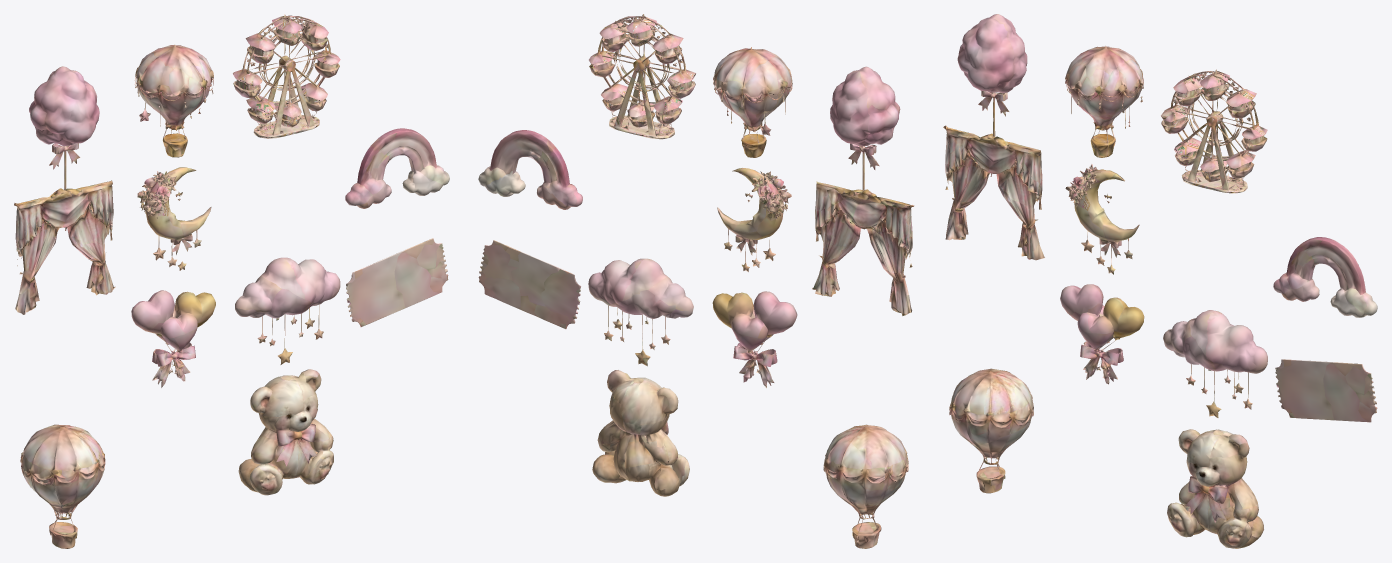
The picture shows the model from 3 angles, left to right: view 1: azimuth 30°, elevation 25°; view 2: azimuth 150°, elevation 25°; view 3: azimuth 330°, elevation 25°; orthographic projection.
Parts seen in each view (by area): view 1: Mesh 11, Mesh 10, Mesh 19, Mesh 3, Mesh 15, Mesh 7, Mesh 9, Mesh 20, Mesh 14, Mesh 6, Mesh 8; view 2: Mesh 11, Mesh 10, Mesh 19, Mesh 3, Mesh 15, Mesh 7, Mesh 9, Mesh 20, Mesh 14, Mesh 6, Mesh 8; view 3: Mesh 11, Mesh 10, Mesh 19, Mesh 3, Mesh 15, Mesh 7, Mesh 9, Mesh 20, Mesh 14, Mesh 6, Mesh 8.
Boxes of the visible parts, x1,y1,x2,y2 form: Mesh 11: (238, 369, 333, 495); Mesh 10: (232, 14, 340, 138); Mesh 19: (14, 180, 115, 314); Mesh 3: (20, 424, 105, 548); Mesh 15: (346, 238, 448, 326); Mesh 7: (134, 44, 213, 157); Mesh 9: (235, 257, 340, 364); Mesh 20: (29, 66, 99, 189); Mesh 14: (345, 128, 449, 208); Mesh 6: (131, 290, 215, 387); Mesh 8: (137, 167, 211, 270); Mesh 11: (592, 370, 689, 496); Mesh 10: (589, 14, 695, 139); Mesh 19: (812, 181, 914, 315); Mesh 3: (823, 424, 908, 548); Mesh 15: (478, 240, 580, 329); Mesh 7: (713, 47, 792, 157); Mesh 9: (588, 258, 693, 366); Mesh 20: (830, 66, 900, 190); Mesh 14: (478, 130, 582, 209); Mesh 6: (712, 291, 797, 388); Mesh 8: (717, 168, 791, 271); Mesh 11: (1167, 429, 1263, 548); Mesh 10: (1161, 69, 1267, 193); Mesh 19: (943, 125, 1044, 260); Mesh 3: (949, 368, 1033, 493); Mesh 15: (1275, 359, 1377, 422); Mesh 7: (1065, 46, 1143, 157); Mesh 9: (1163, 310, 1267, 417); Mesh 20: (957, 14, 1027, 136); Mesh 14: (1273, 237, 1377, 317); Mesh 6: (1060, 284, 1144, 384); Mesh 8: (1065, 164, 1139, 274).
Size of the model in its own units: 1.83 by 1.9 by 0.3139.
11 materials, 11 textured.
